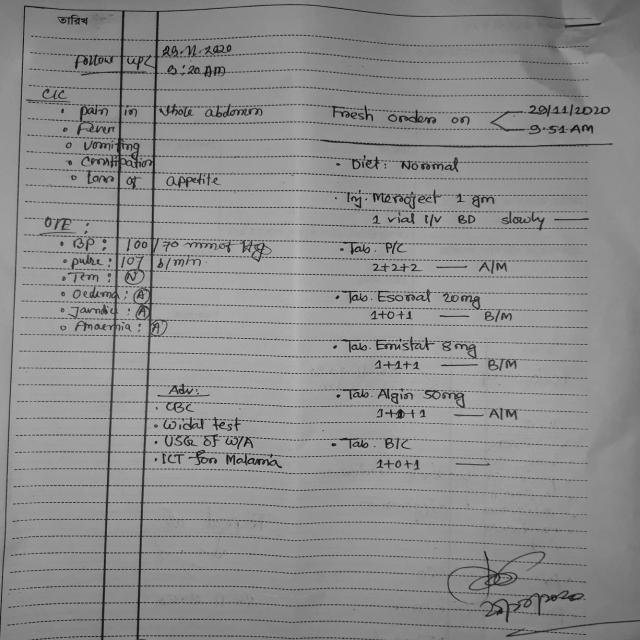Algin: (374, 385, 417, 406)
B-C: (380, 434, 416, 453)
Emistat: (372, 335, 438, 355)
Meroject: (368, 188, 447, 213)
P-C: (381, 238, 410, 258)
